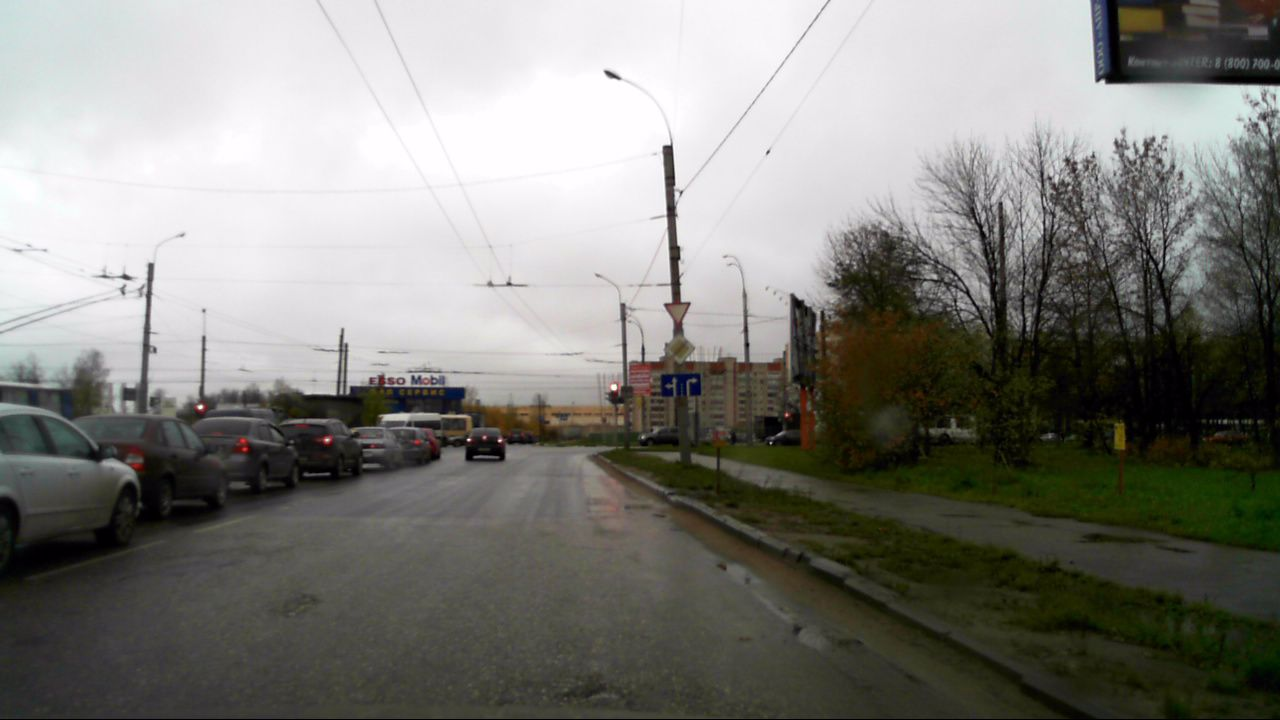main road: (664, 333, 695, 365)
